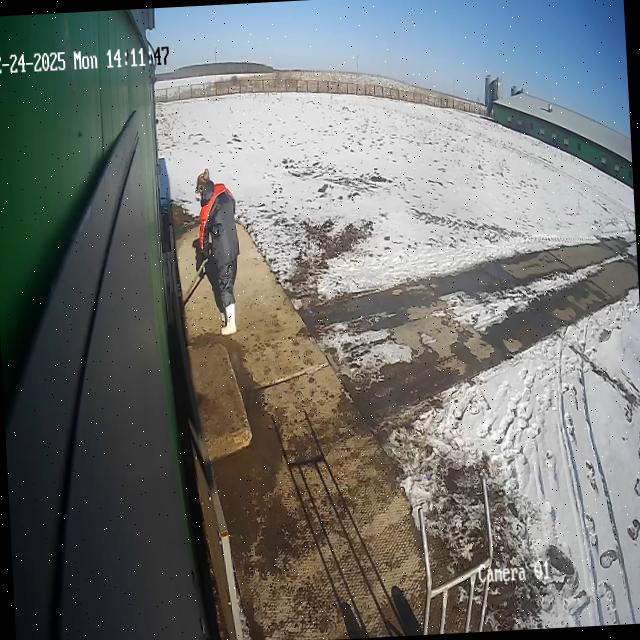Red uniform: (194, 180, 244, 317)
